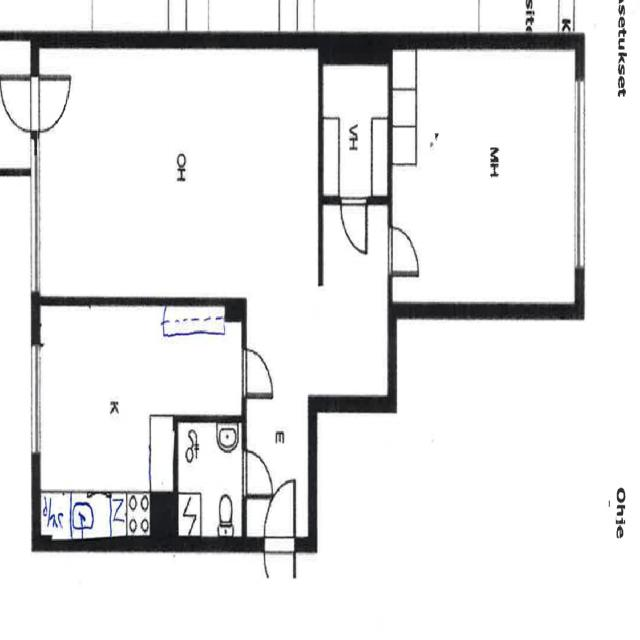door: (31, 76, 71, 131), (0, 76, 40, 131), (264, 536, 294, 606), (264, 483, 294, 552), (241, 348, 274, 398), (387, 227, 420, 276), (242, 452, 272, 497), (341, 196, 366, 249)
